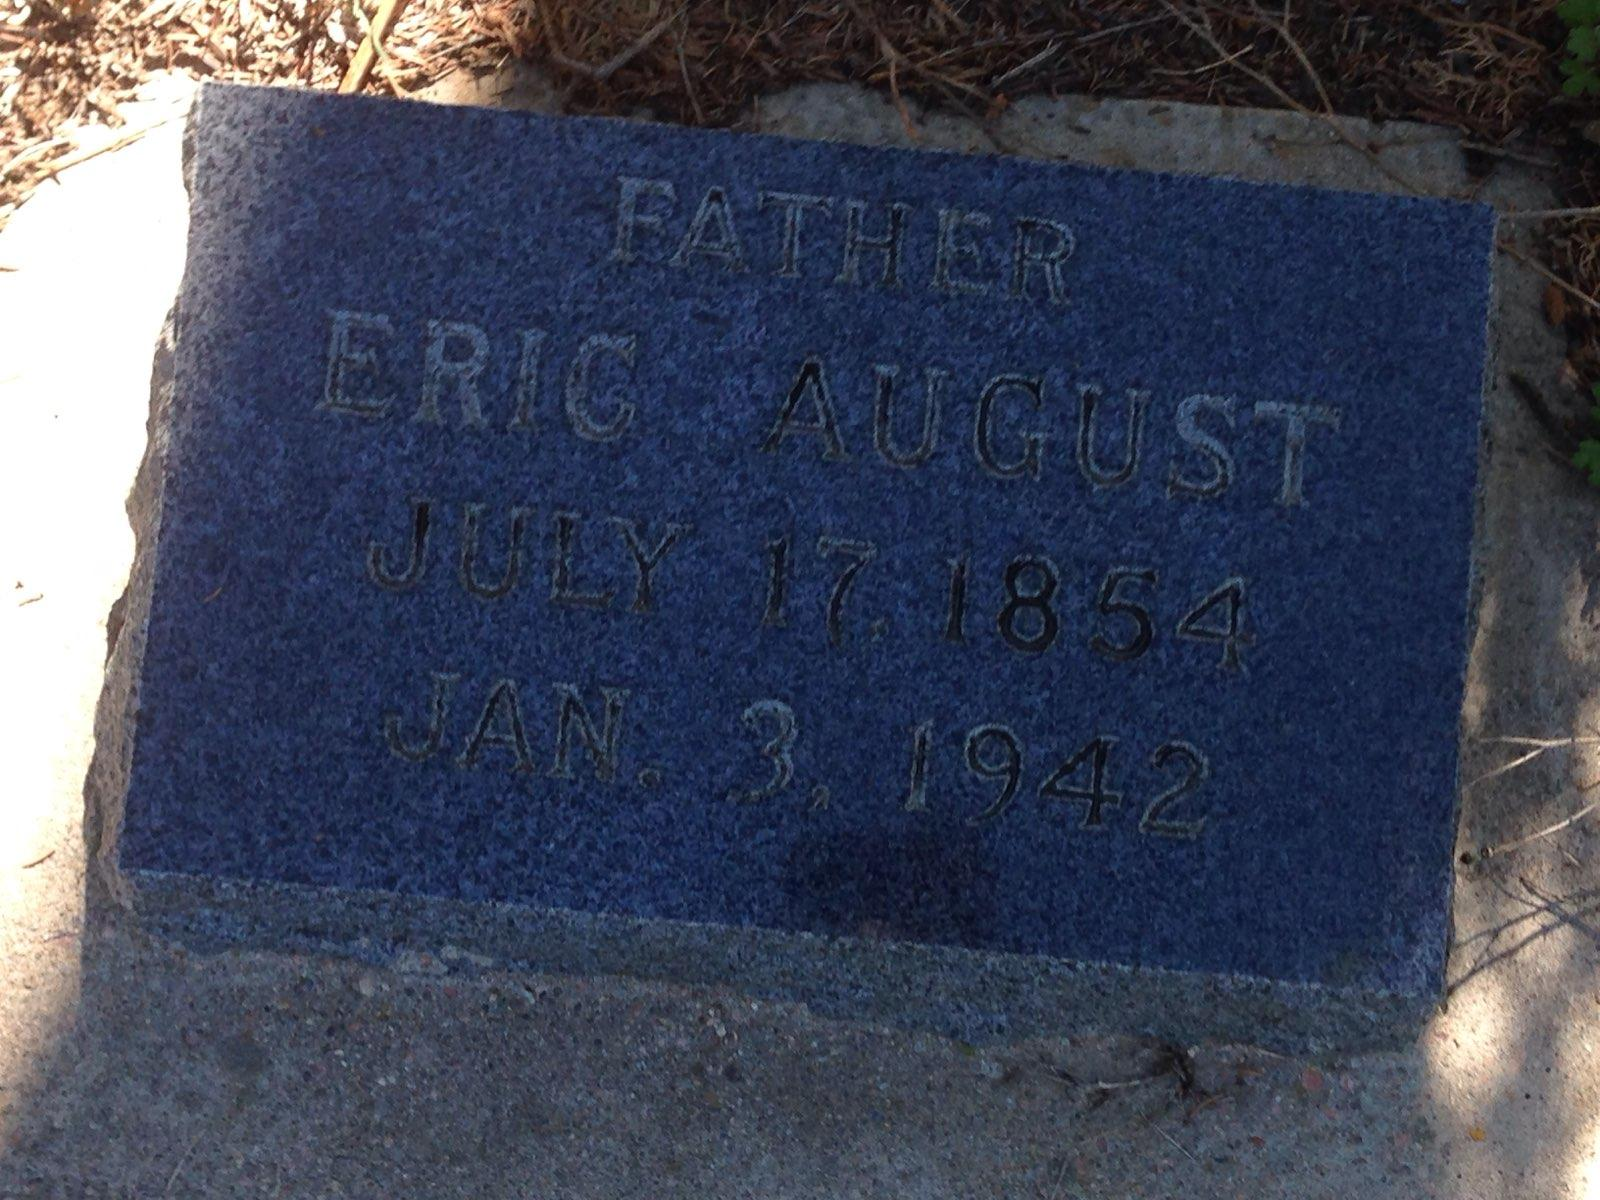flat: (67, 76, 1488, 1071)
